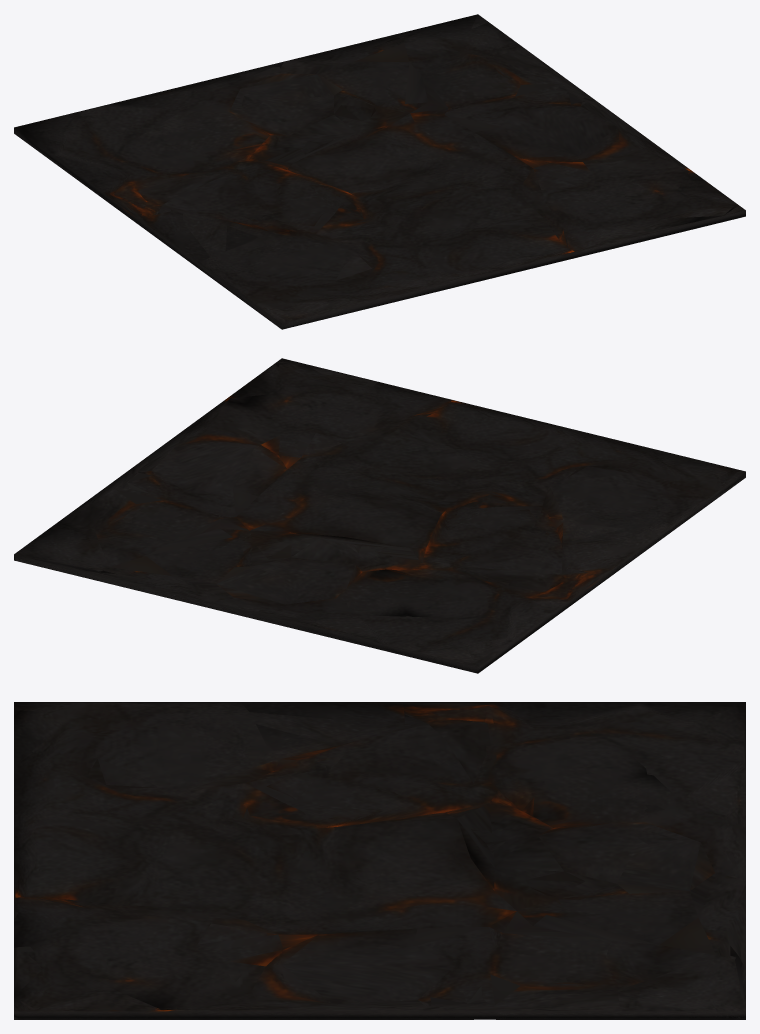
The model's file is volcanic-ground-lod1.glb.
The picture shows the model from 3 angles, top to bottom: view 1: azimuth 30°, elevation 25°; view 2: azimuth 150°, elevation 25°; view 3: azimuth 270°, elevation 25°; orthographic projection. The views are drawn at different scales.
Parts seen in each view (by area): view 1: volcanic-ground.002; view 2: volcanic-ground.002; view 3: volcanic-ground.002.
Boxes of the visible parts, <box> form: volcanic-ground.002: <box>14,14,745,329</box>; volcanic-ground.002: <box>14,358,745,673</box>; volcanic-ground.002: <box>14,702,745,1019</box>.
Bounding box in the file's own units: 32 × 0.4646 × 32.
1 material, 1 textured.
